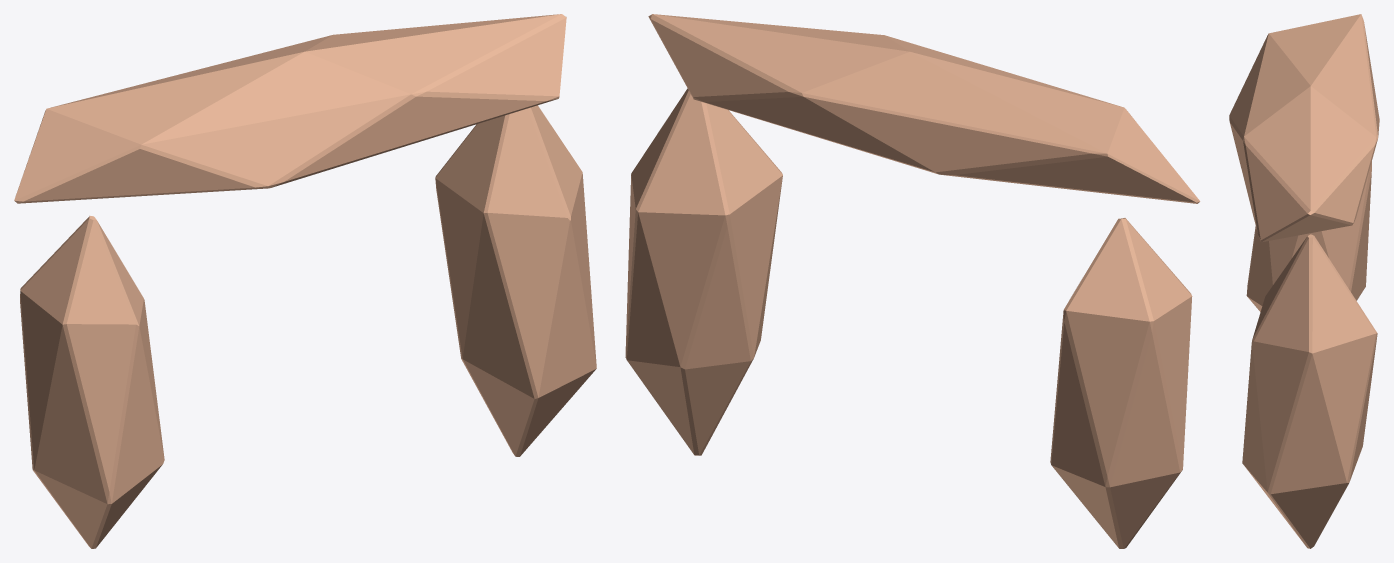
The picture shows the model from 3 angles, left to right: view 1: azimuth 30°, elevation 25°; view 2: azimuth 150°, elevation 25°; view 3: azimuth 270°, elevation 25°; orthographic projection. The views are drawn at different scales.
Visible parts, largest first — view 1: Arch; view 2: Arch; view 3: Arch.
Boxes of the visible parts, x1=… form: Arch: x1=14, y1=14, x2=596, y2=548; Arch: x1=625, y1=14, x2=1200, y2=548; Arch: x1=1229, y1=14, x2=1379, y2=548.
Size of the model in its own units: 2.81 by 2.16 by 0.7819.
